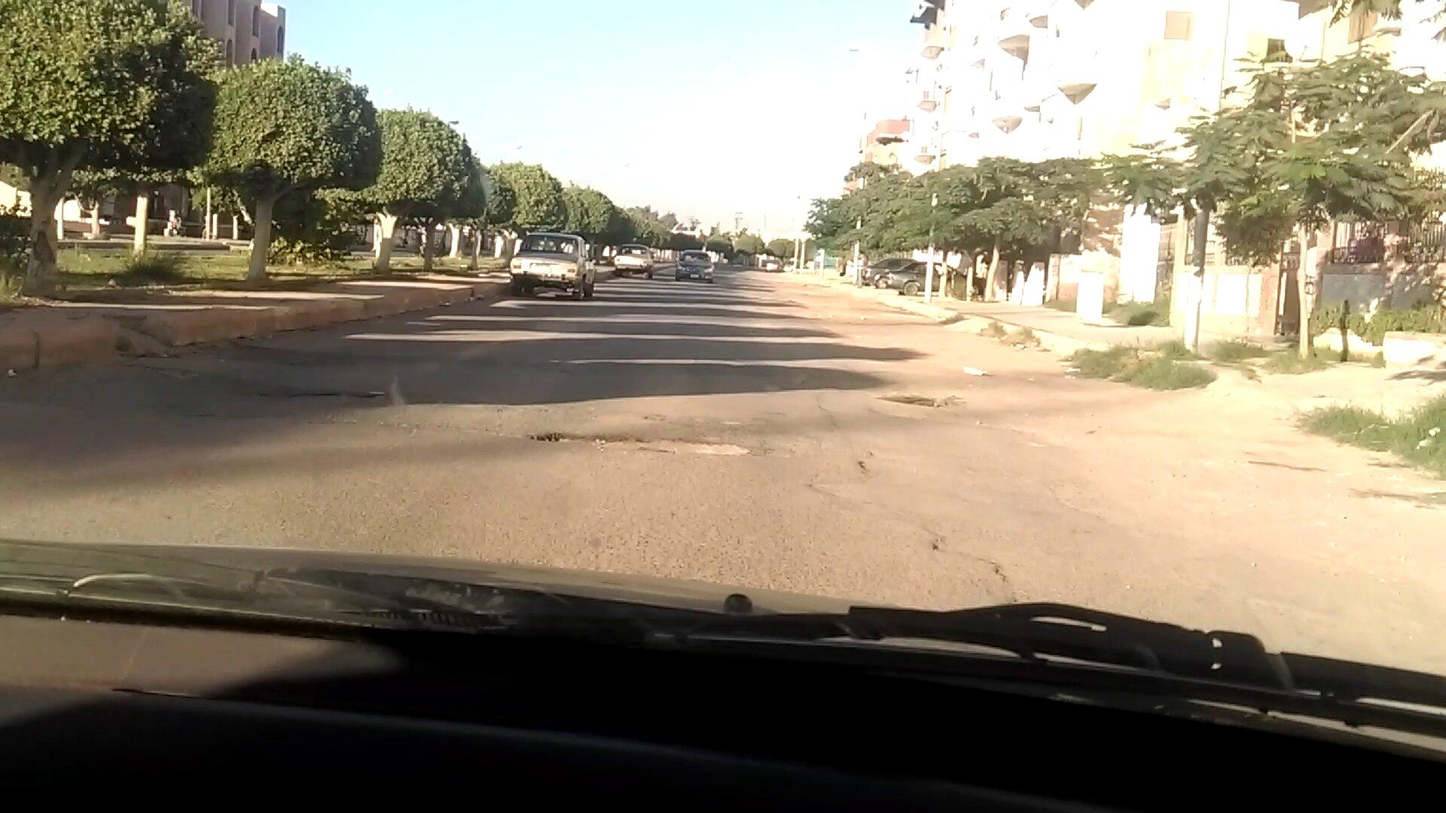Pothole: (536, 432, 747, 455), (876, 393, 958, 412), (264, 389, 387, 399)
